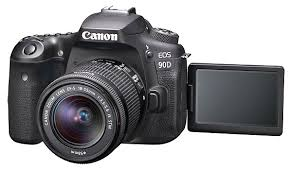camera: (9, 9, 188, 164)
